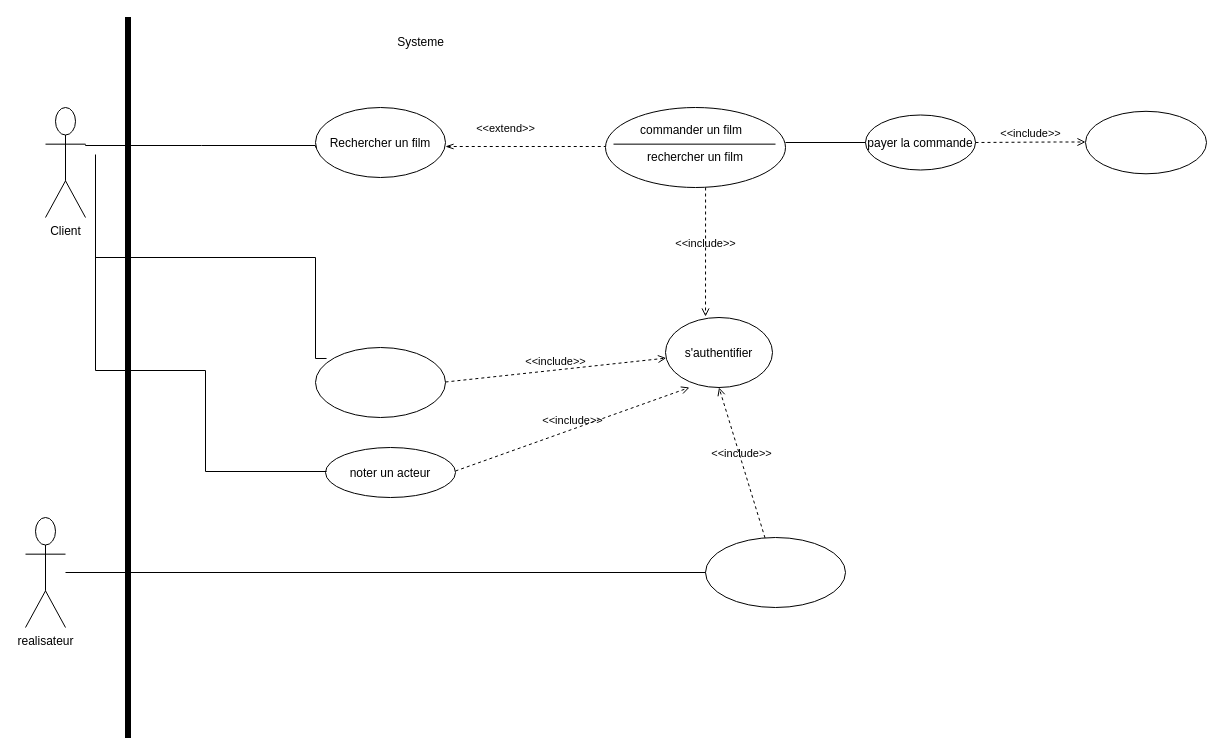
The diagram is 1224 pixels wide and 755 high, and some of its shapes have lost their labels. Here are the shapes that lost their labels. From the top down, the centre of each, then its label:
At [1145,142]: "valider le paiement".
At [380,382]: "noter un realisateur".
At [775,572]: "enregistrement du role".
